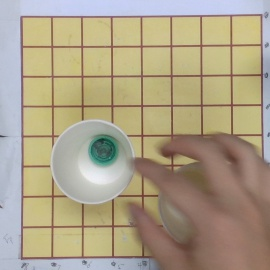cup_green: (50, 120, 137, 205)
